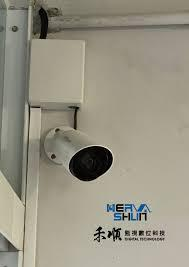Monitor: (36, 94, 137, 206)
